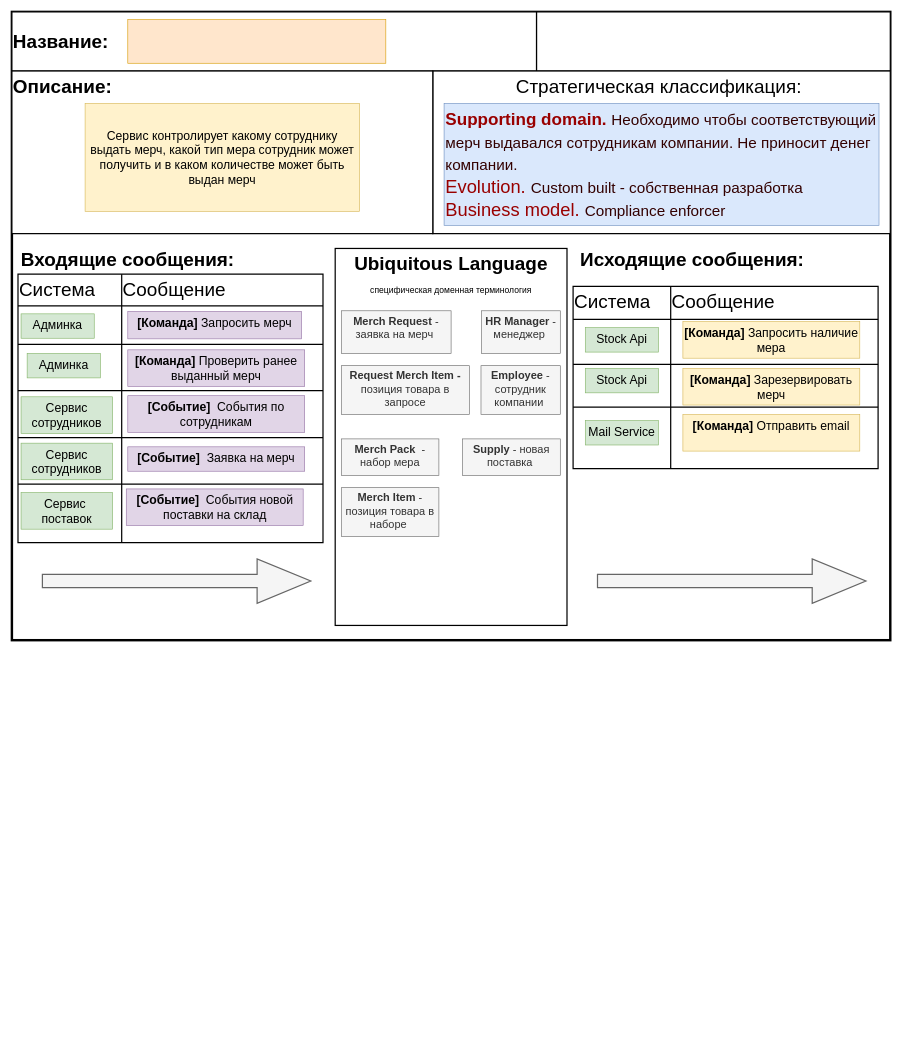
This 902x1045 diagram has some shape labels left out. Each missing label, with the centre of its shape:
"Bouneded context canvas" belongs at (x=713, y=41).
"Сервис управления выдачей мера сотрудникам" belongs at (x=256, y=41).
